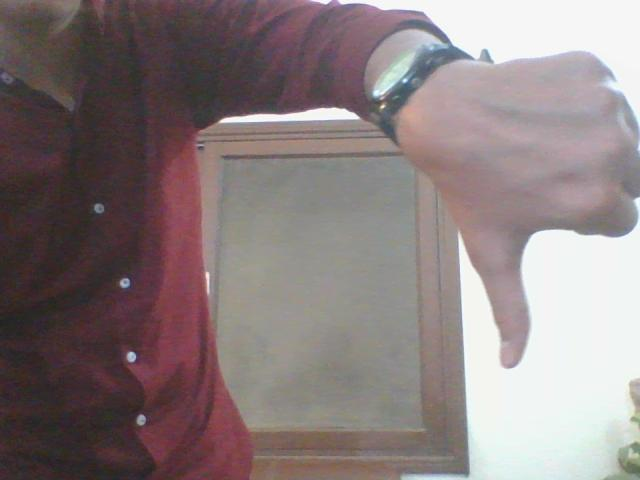thumbs-down: (468, 51, 640, 369)
